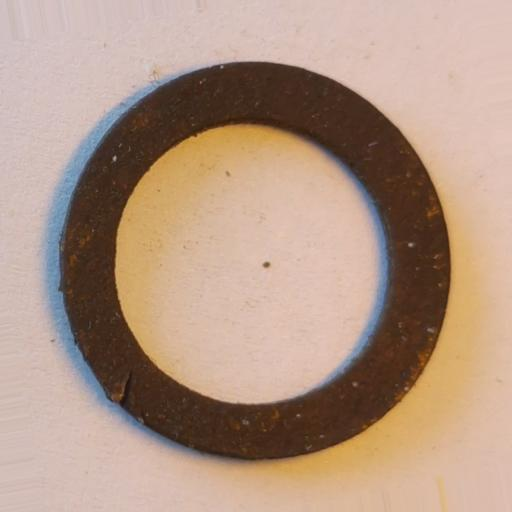defect: (109, 367, 134, 414)
